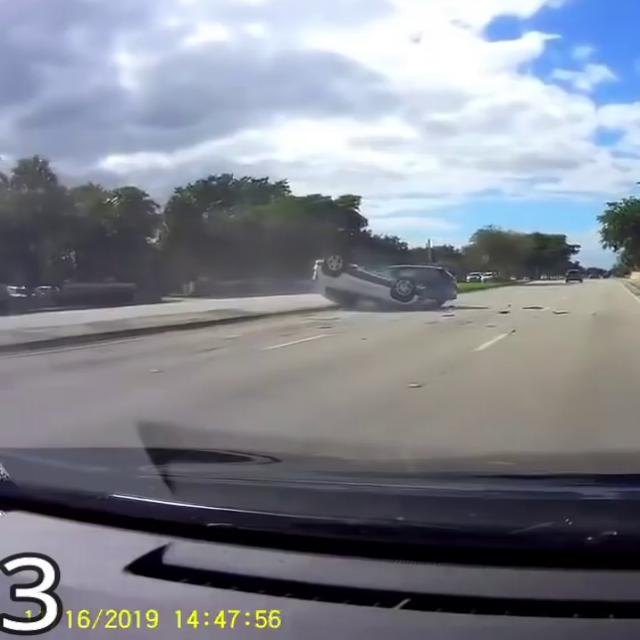accident: (290, 263, 457, 315)
